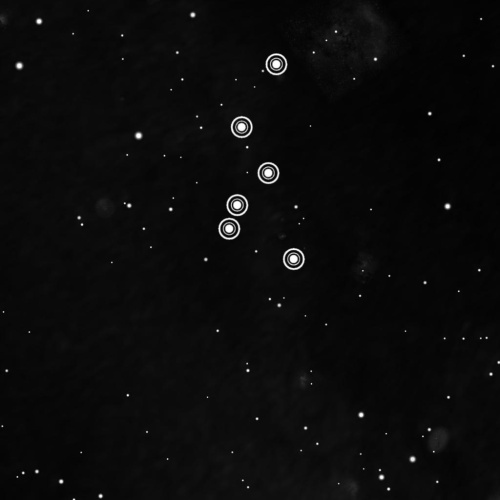cassiopeia: (214, 49, 309, 277)
